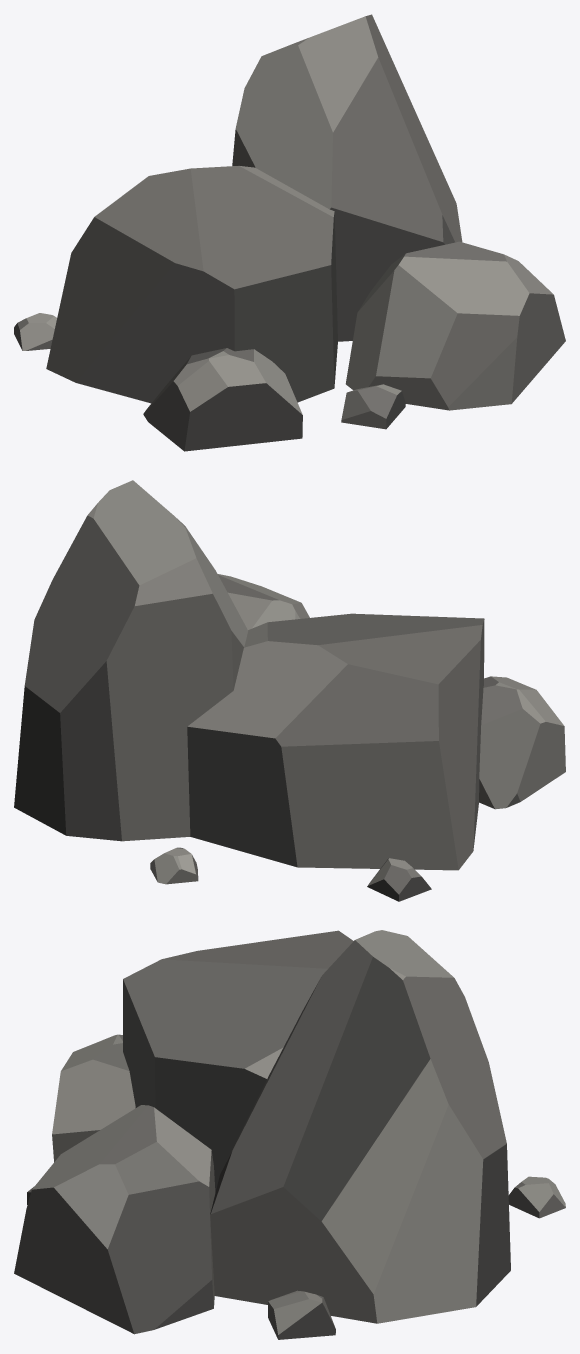
File: rock_stone_b.fbx
3 views of the same model, one above another, from view 1: azimuth 30°, elevation 25°; view 2: azimuth 150°, elevation 25°; view 3: azimuth 270°, elevation 25° (orthographic). The views are drawn at different scales.
Parts seen in each view (by area): view 1: rock_stone_b; view 2: rock_stone_b; view 3: rock_stone_b.
Boxes of the visible parts, x1,y1,x2,y2 form: rock_stone_b: [14, 14, 565, 451]; rock_stone_b: [14, 480, 565, 901]; rock_stone_b: [14, 930, 565, 1339].
Size of the model in its own units: 1.49 by 0.9416 by 1.42.
